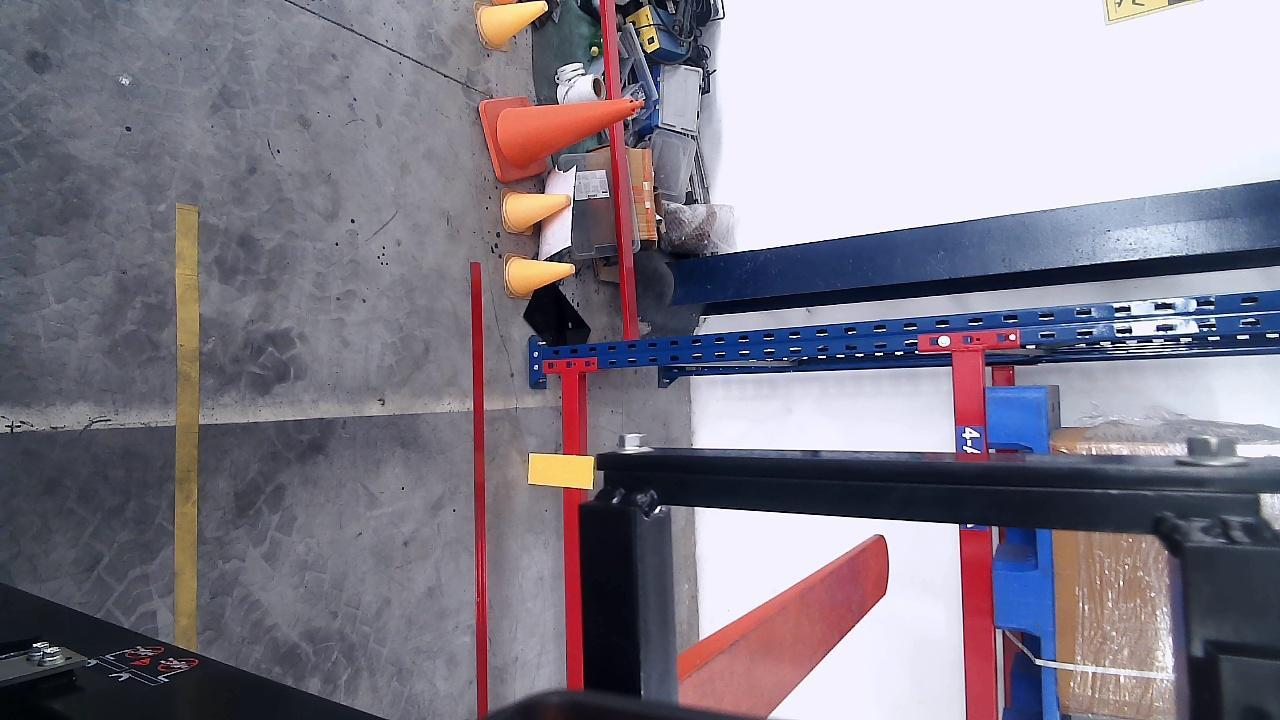h_rack: (952, 348, 997, 719), (563, 370, 585, 692)
orange_strip: (528, 455, 596, 487)
red_line: (469, 262, 492, 718)
small_pallet: (986, 392, 1056, 720)
yellow_line: (175, 201, 200, 655)
